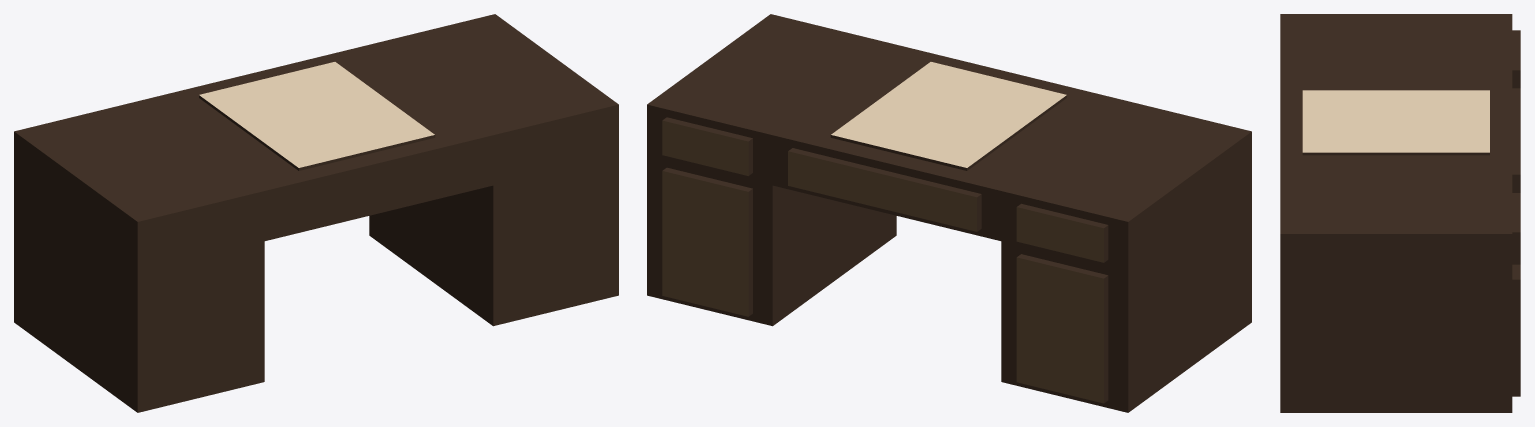
File: study_desk.fbx
The picture shows the model from 3 angles, left to right: view 1: azimuth 30°, elevation 25°; view 2: azimuth 150°, elevation 25°; view 3: azimuth 270°, elevation 25°; orthographic projection. The views are drawn at different scales.
Parts seen in each view (by area): view 1: study_desk; view 2: study_desk; view 3: study_desk.
Boxes of the visible parts, x1=… form: study_desk: x1=14, y1=14, x2=618, y2=412; study_desk: x1=647, y1=14, x2=1251, y2=412; study_desk: x1=1280, y1=14, x2=1520, y2=412.
Bounding box in the file's own units: 3.69 × 1.42 × 1.7.
